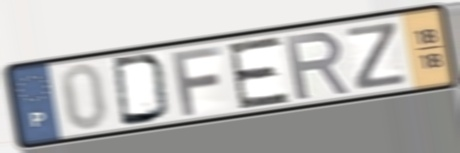0: (57, 61, 111, 134)
D: (109, 52, 173, 129)
E: (224, 33, 293, 112)
F: (168, 43, 225, 118)
R: (282, 29, 353, 103)
Z: (343, 19, 410, 93)
